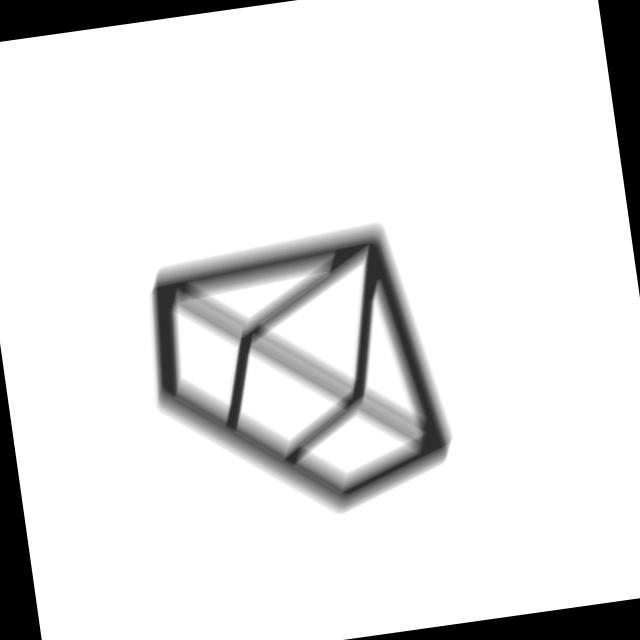diamond: (130, 214, 470, 549)
